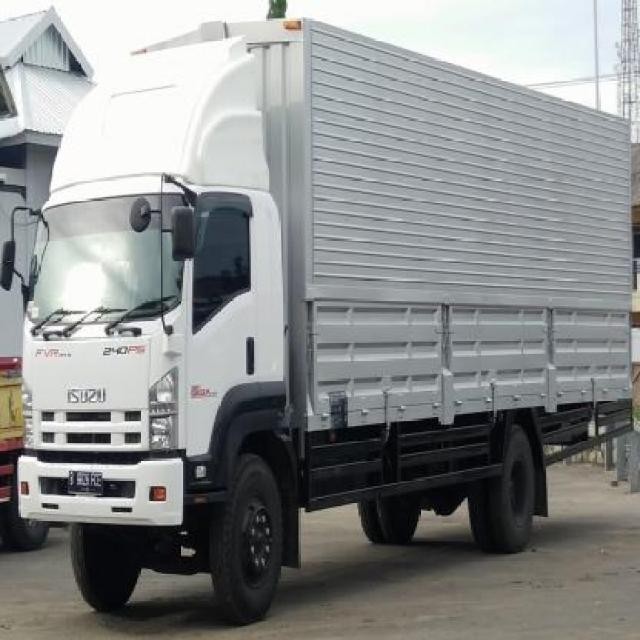truck: (10, 14, 640, 613)
